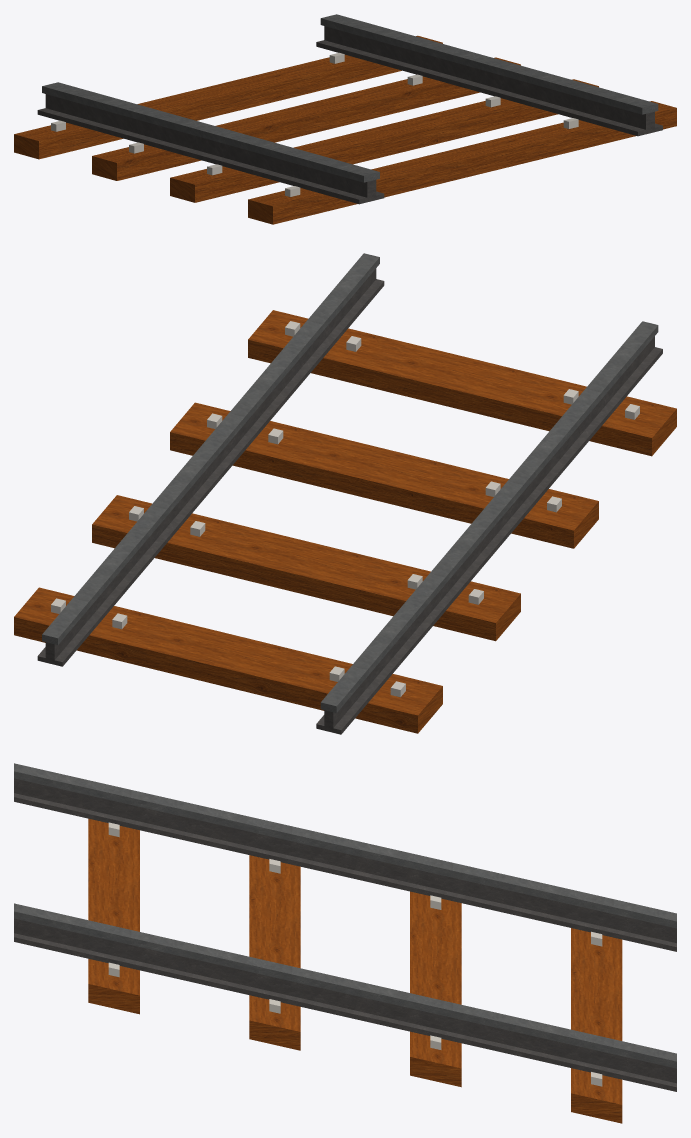
Rendered from rail_slope.gltf.
3 views of the same model, one above another, from view 1: azimuth 30°, elevation 25°; view 2: azimuth 150°, elevation 25°; view 3: azimuth 270°, elevation 25° (orthographic). The views are drawn at different scales.
Bounding box in the file's own units: 2.9 × 1.23 × 4.
4 materials, 3 textured.
